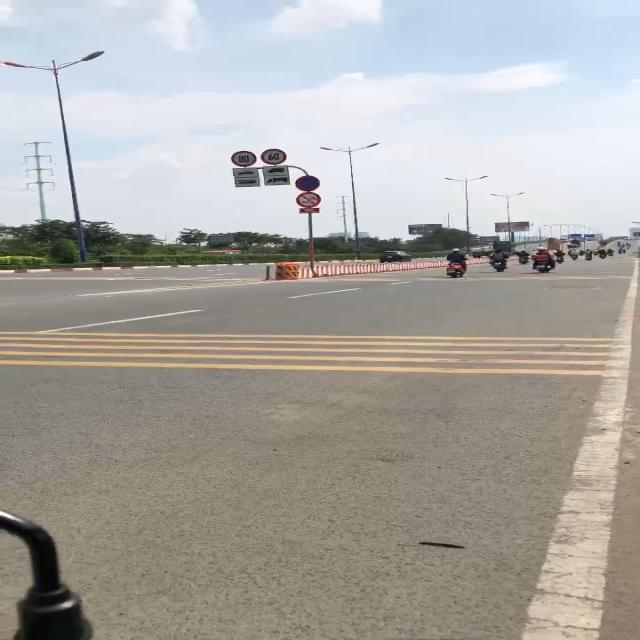Bien bao toc do toi da cho phep: (256, 146, 292, 166), (226, 148, 261, 167)
